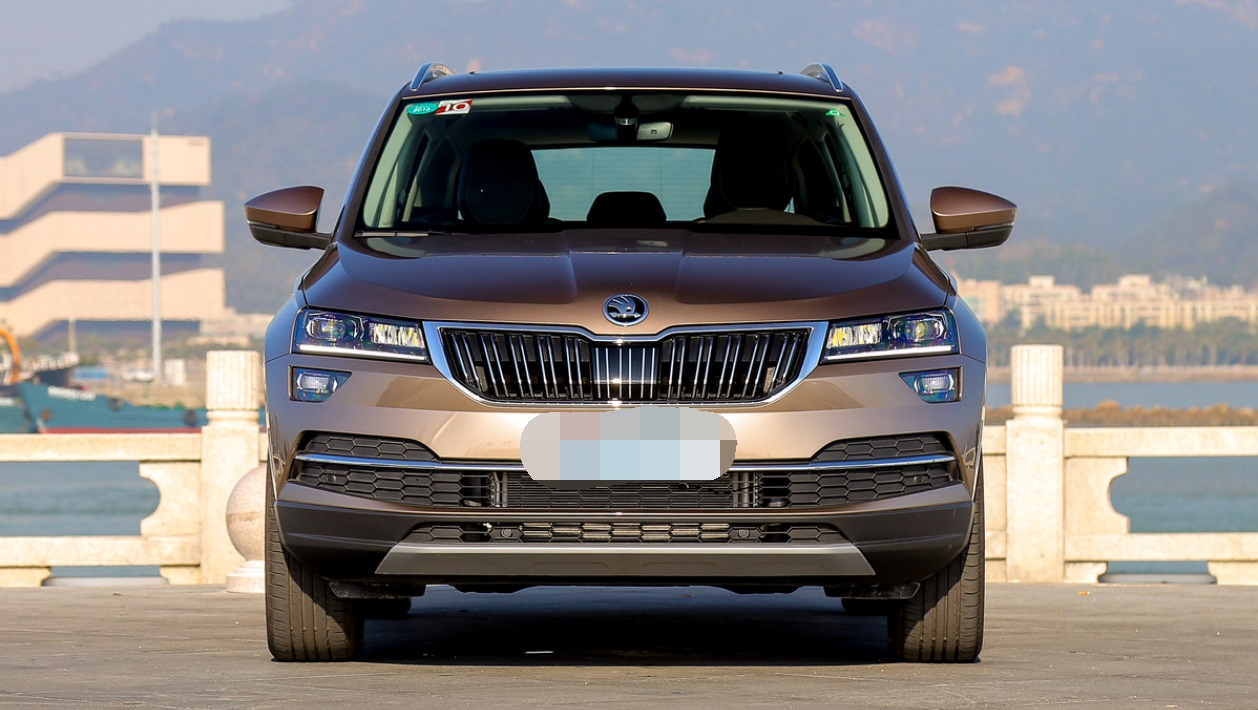SUV: (238, 54, 1024, 677)
